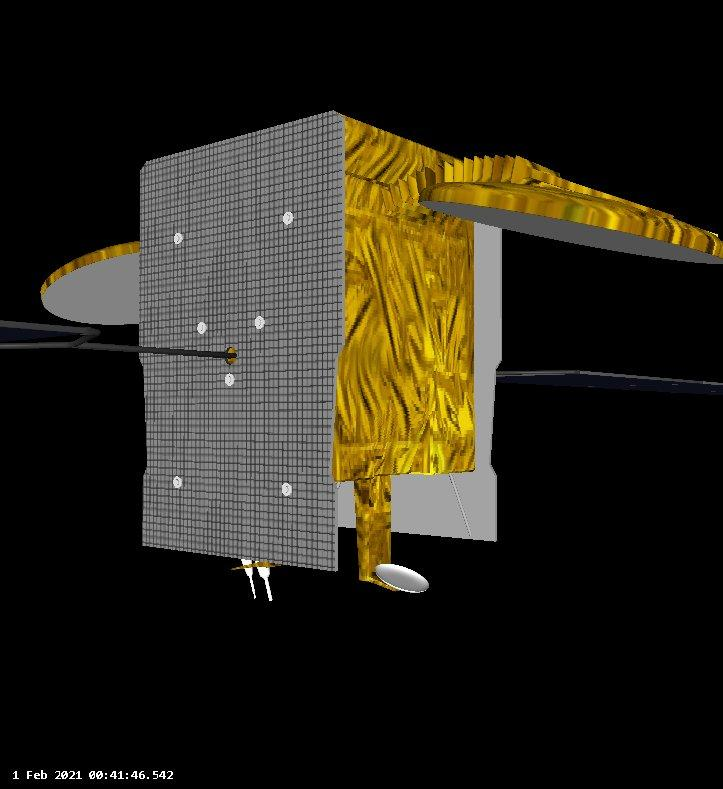antenna: (414, 177, 723, 269), (39, 236, 153, 328), (373, 561, 432, 595)
body: (134, 108, 479, 485)
solar: (491, 363, 723, 400)
